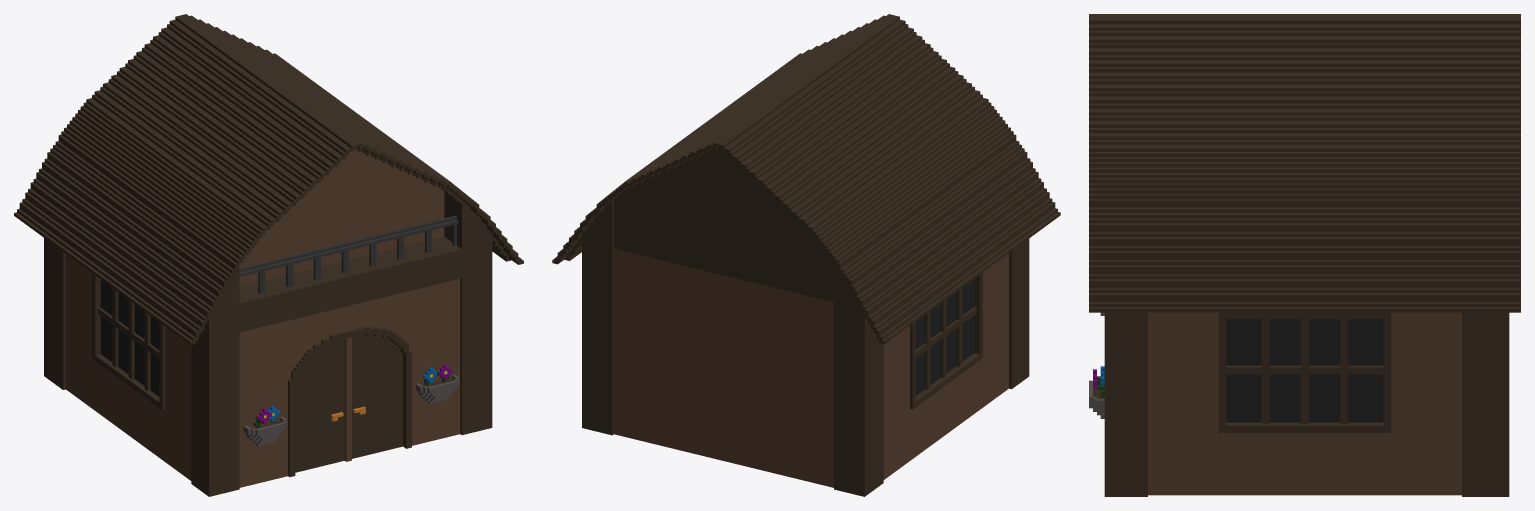
File: Casa 07.obj
3 views of the same model, side by side, from view 1: azimuth 30°, elevation 25°; view 2: azimuth 150°, elevation 25°; view 3: azimuth 270°, elevation 25° (orthographic). The views are drawn at different scales.
Bounding box in the file's own units: 12 × 11.1 × 11.
1 material, 1 textured.
